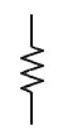resistor: (15, 34, 49, 101)
